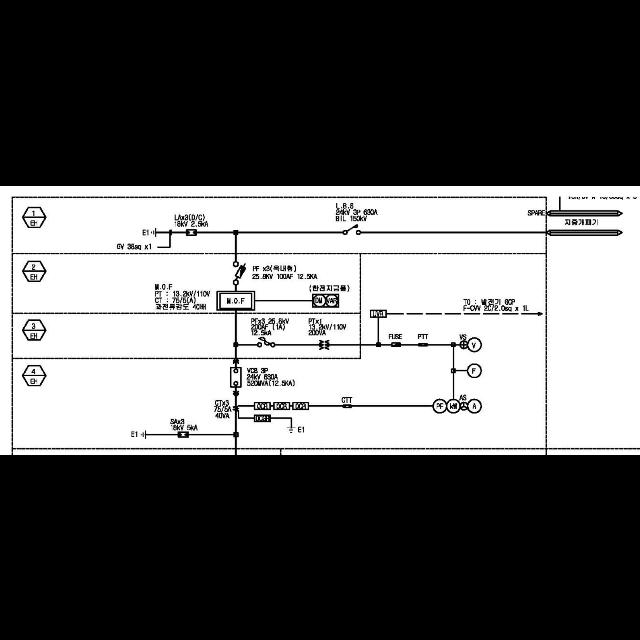A: (468, 398, 482, 412)
AS: (460, 400, 468, 410)
CB: (230, 366, 242, 386)
CT: (232, 404, 240, 411)
GND: (150, 227, 158, 237), (140, 429, 148, 439), (287, 425, 297, 433)
LA: (186, 228, 197, 235), (178, 431, 188, 437)
MOF: (220, 292, 252, 308)
PF: (258, 336, 274, 346)
PF2: (392, 342, 401, 346)
PT: (319, 339, 329, 349)
V: (468, 336, 482, 352)
VS: (459, 340, 468, 348)
